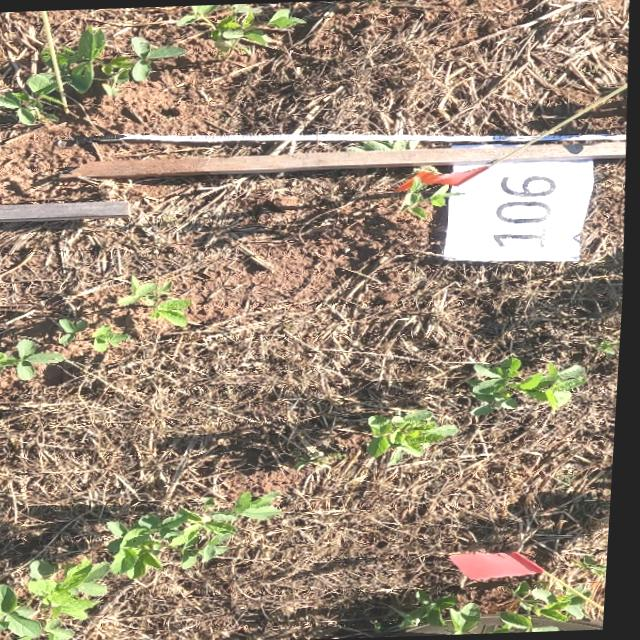soy_plant: (0, 490, 286, 640), (0, 9, 183, 122), (476, 356, 588, 410), (500, 579, 612, 632), (180, 2, 299, 48), (374, 408, 462, 464), (121, 275, 193, 326), (409, 591, 489, 634), (0, 337, 66, 378), (403, 167, 457, 216), (62, 317, 133, 351), (0, 201, 127, 219), (589, 558, 614, 581)
